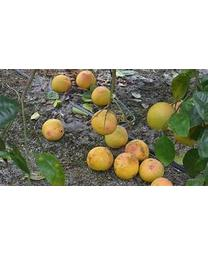lemon: (149, 102, 175, 131), (85, 147, 114, 171), (114, 152, 140, 178), (140, 157, 166, 182), (93, 110, 116, 133), (43, 118, 65, 140), (104, 124, 127, 145), (127, 139, 148, 161), (93, 87, 111, 106), (51, 75, 70, 93), (76, 72, 96, 89)
